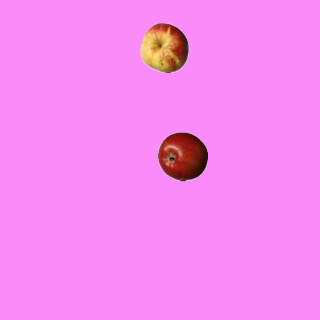Apple Braeburn: (157, 131, 207, 181)
Apple Red Yellow 1: (139, 22, 189, 72)
